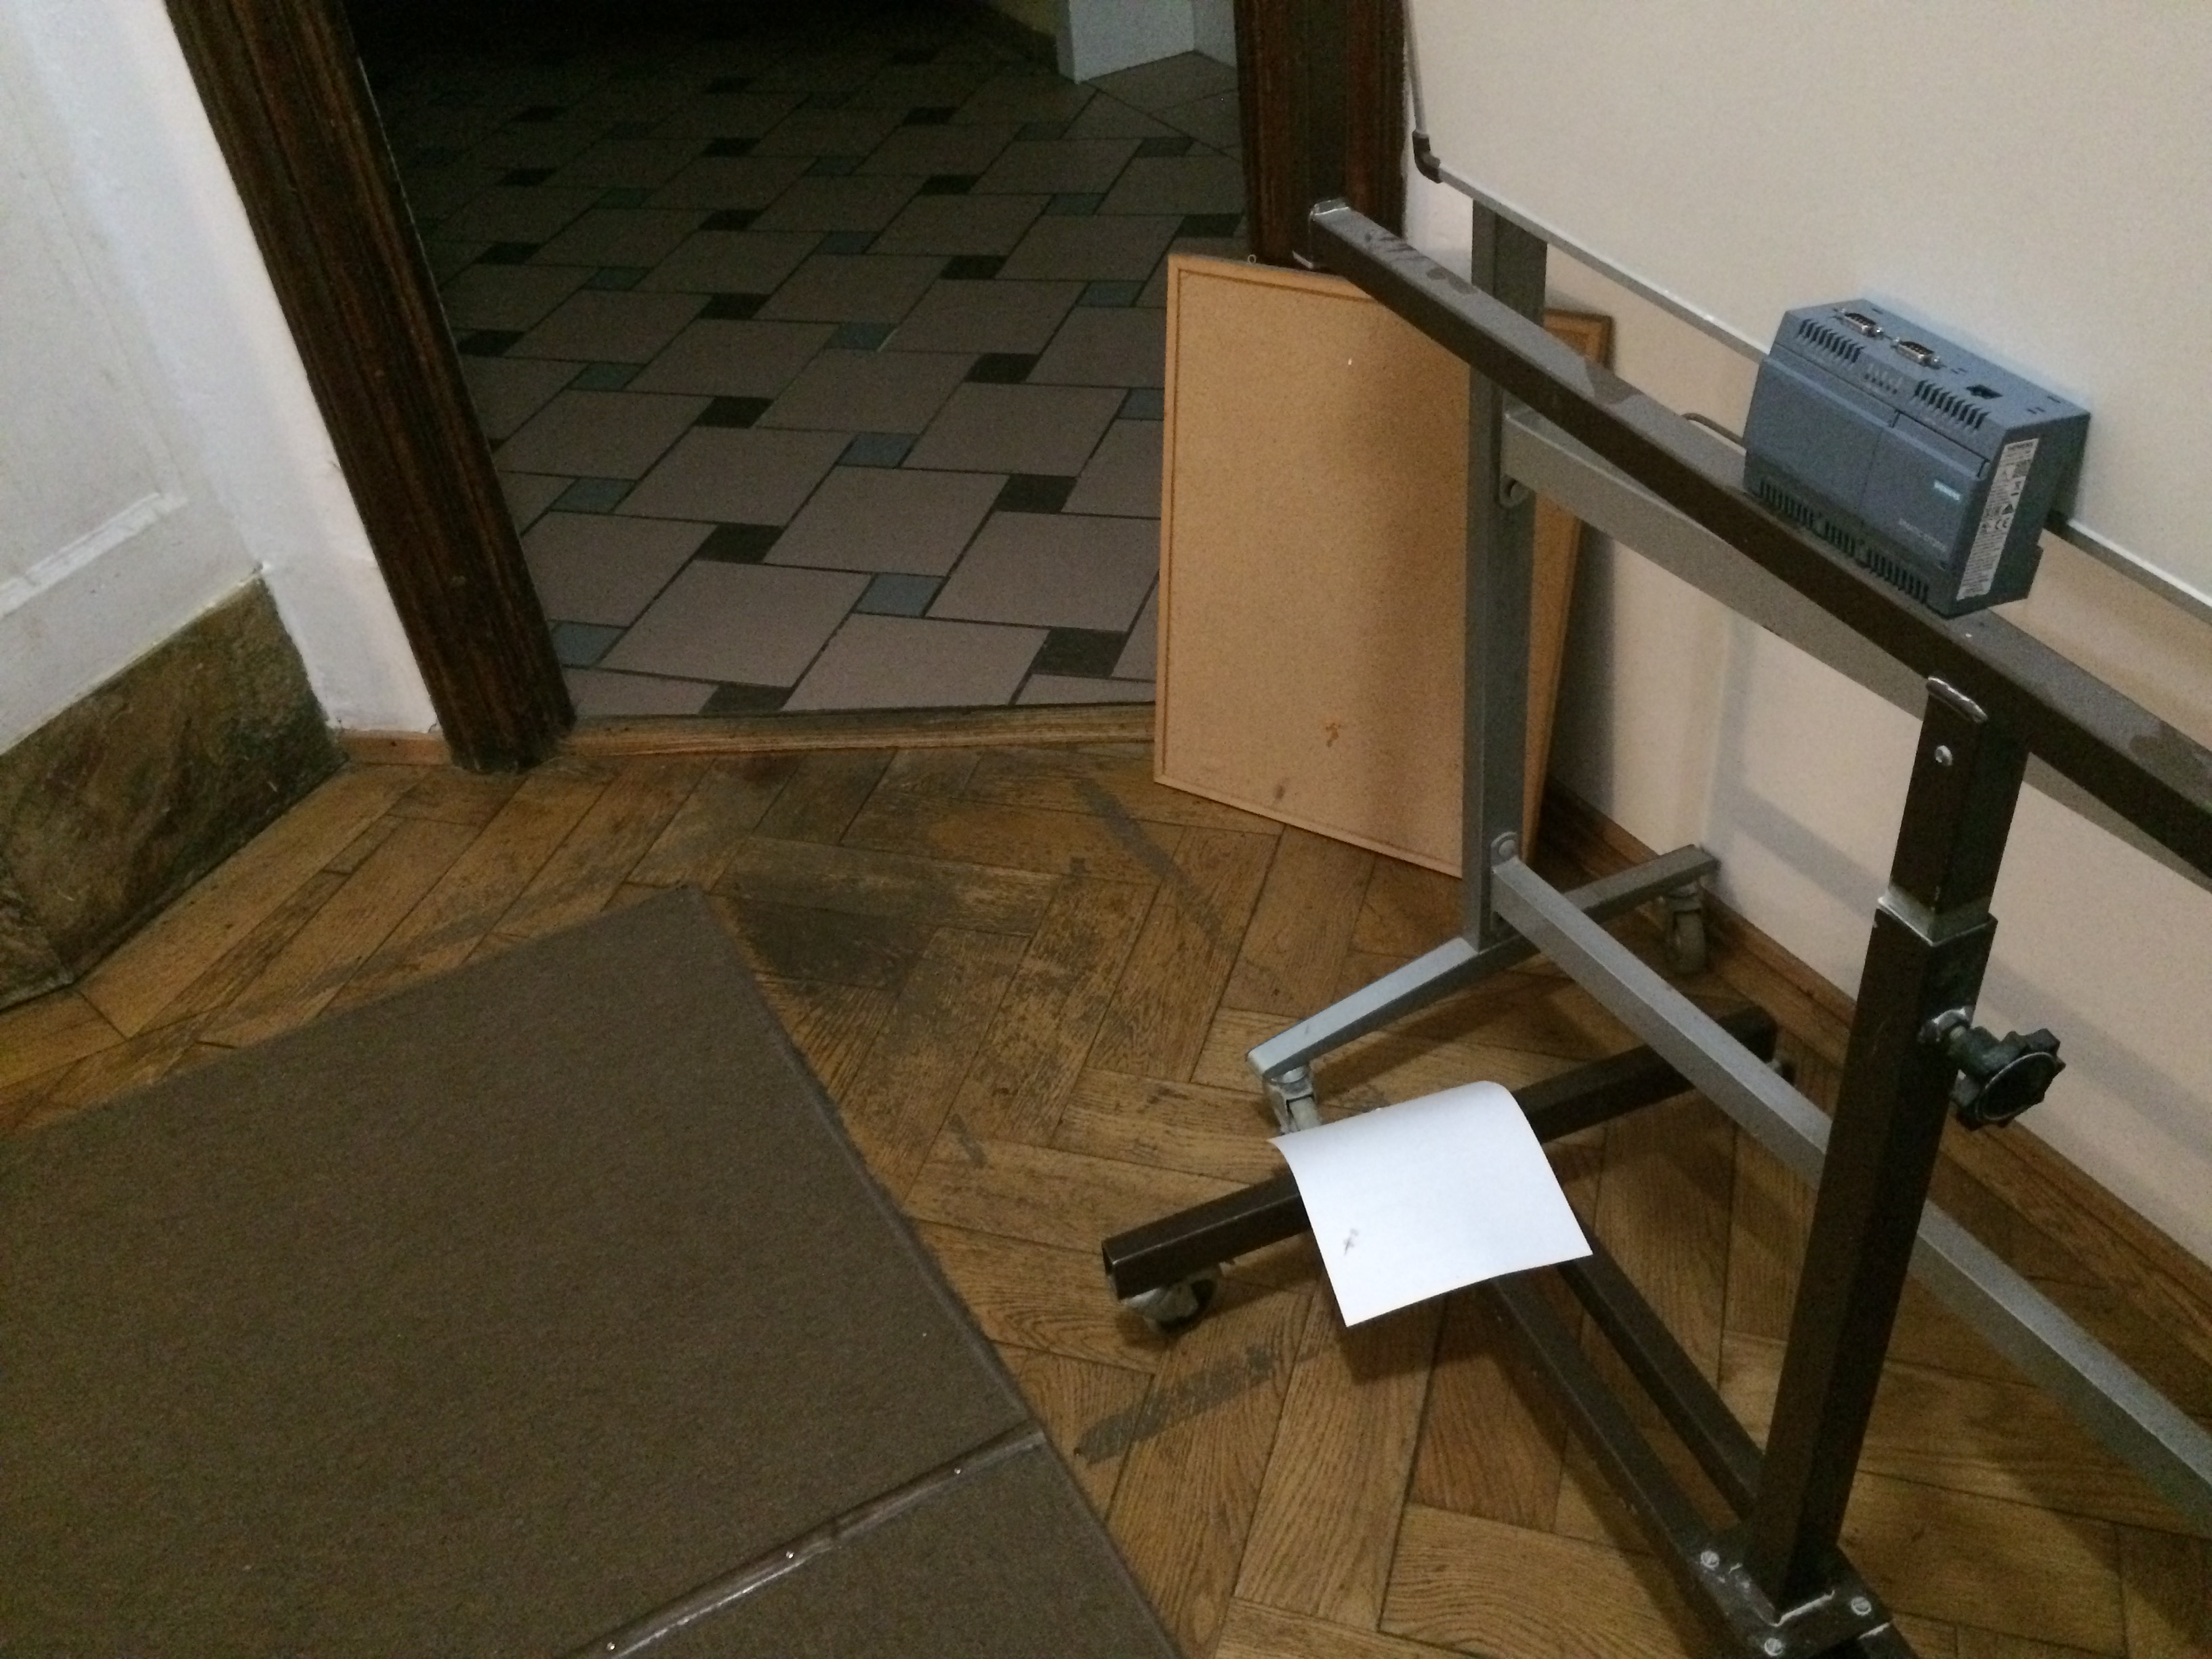iot2000: (1737, 293, 2088, 620)
